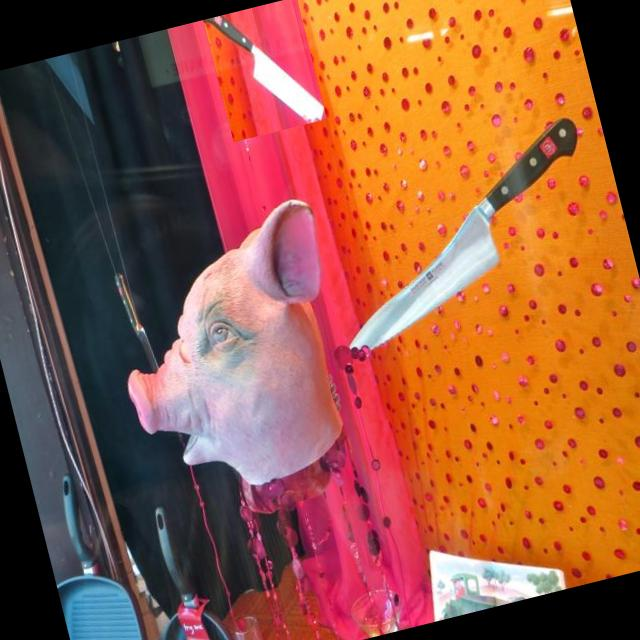Knife: (349, 119, 577, 349), (204, 15, 325, 122)
